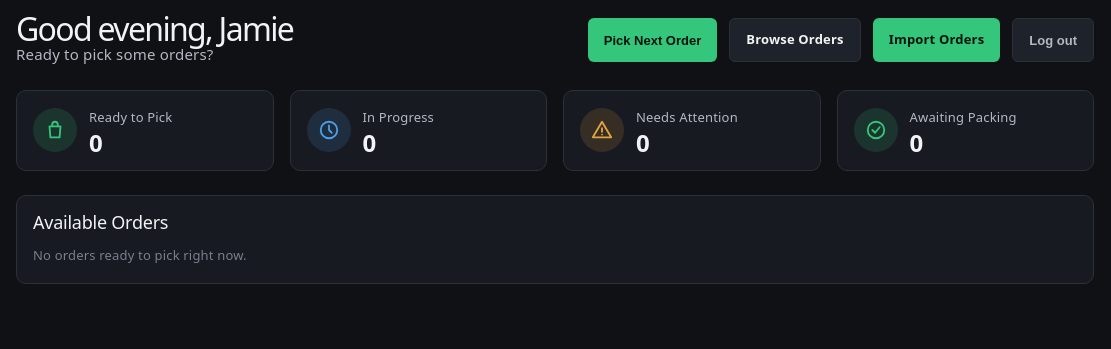
Test: DashboardPage › shows a clear message when no orders are available to pick
Click the button "Pick Next Order" at (652, 40), box [588, 18, 717, 62]
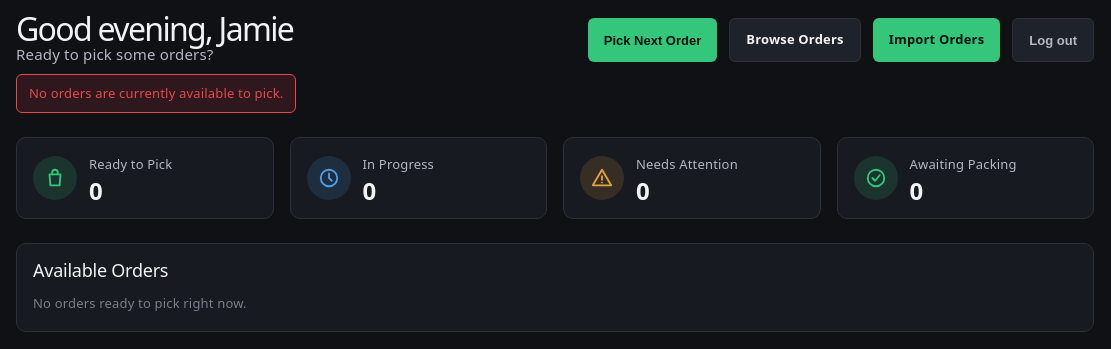
Check: the message shows "No orders are currently available", box [29, 84, 284, 102]
